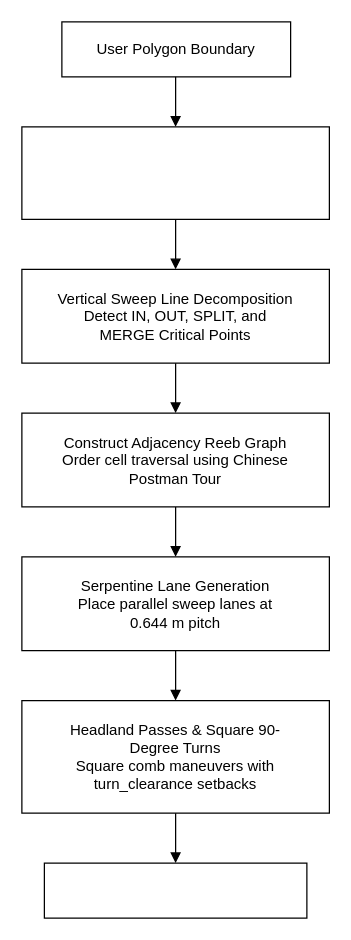
Image size: 351x940. Some labels were removed from this diagram. The shapes that lost their labels are listed below. From the top down, each one's box as (x1, y1, x2, y2) in pixels, then its label:
(21, 126, 329, 219): Free-Space Polygon Clipping Erode perimeter by wall_clearance (0.400 m)
(43, 862, 307, 918): Goal Dispatch to move_base
